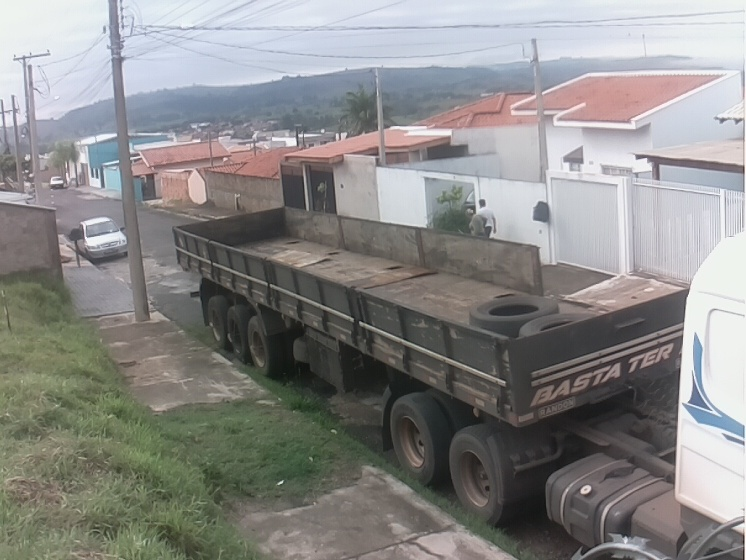person: (473, 199, 498, 241)
